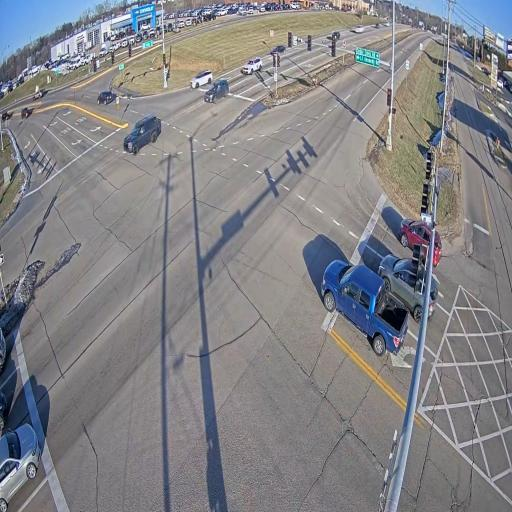pickup: (321, 260, 409, 355)
sedan: (272, 45, 286, 55), (375, 24, 380, 28)
suv: (0, 424, 42, 512), (378, 254, 426, 322), (123, 114, 161, 155), (398, 219, 431, 248), (205, 79, 229, 103), (428, 277, 438, 317), (191, 70, 213, 88), (241, 56, 263, 74), (433, 233, 442, 266), (98, 90, 114, 105), (33, 90, 44, 100), (21, 107, 31, 118), (1, 112, 10, 122), (331, 31, 340, 40), (354, 25, 364, 33), (384, 21, 390, 27)
